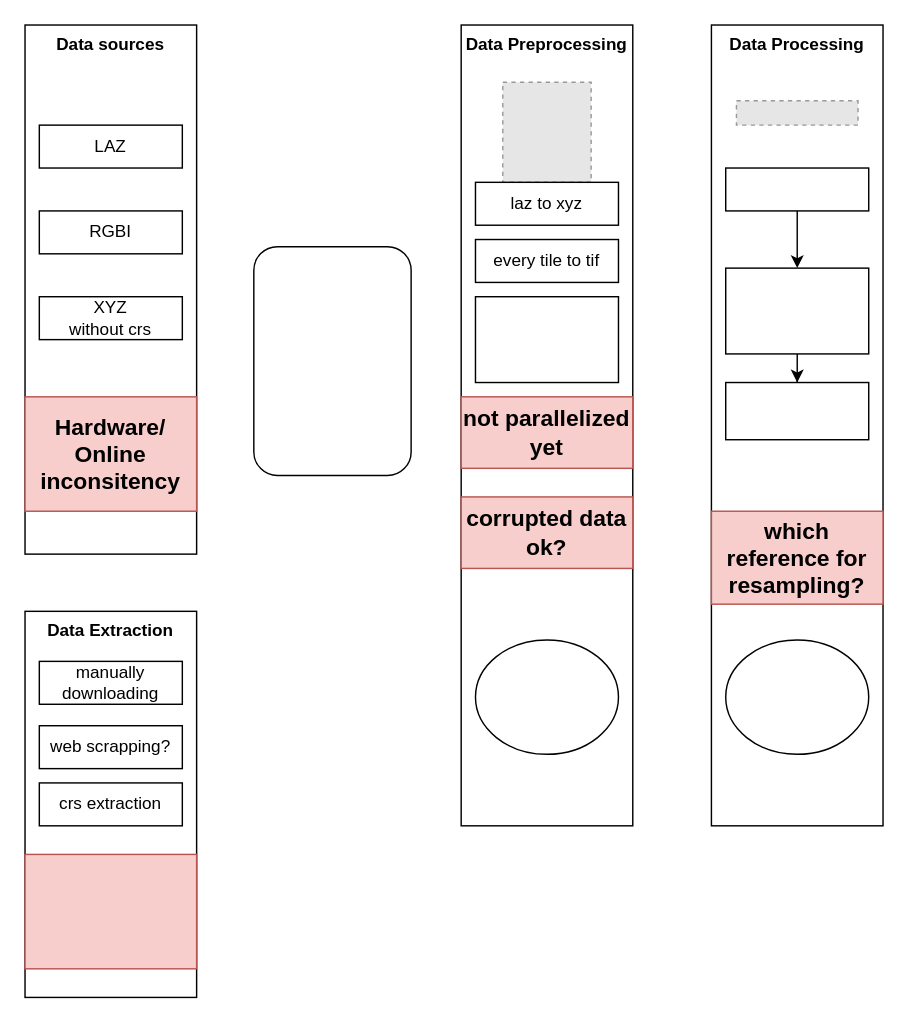
The diagram is 908 pixels wide and 1022 high, and some of its shapes have lost their labels. Grey dashed boxes stand in for pictures. The shapes that lost their labels are listed below. From the top down, each one's centre as x and y in pixels, then its label:
At point 796,189: "mosaicing".
At point 796,310: "Resampling, Scaling, Stacking".
At point 546,339: "crs check and data cleansing".
At point 331,360: "Pointer JSON files list (created with GUI)".
At point 796,410: "nDSM creation".
At point 546,696: "temp folder".
At point 796,696: "final folder".
At point 110,911: "specific file folder structure".
